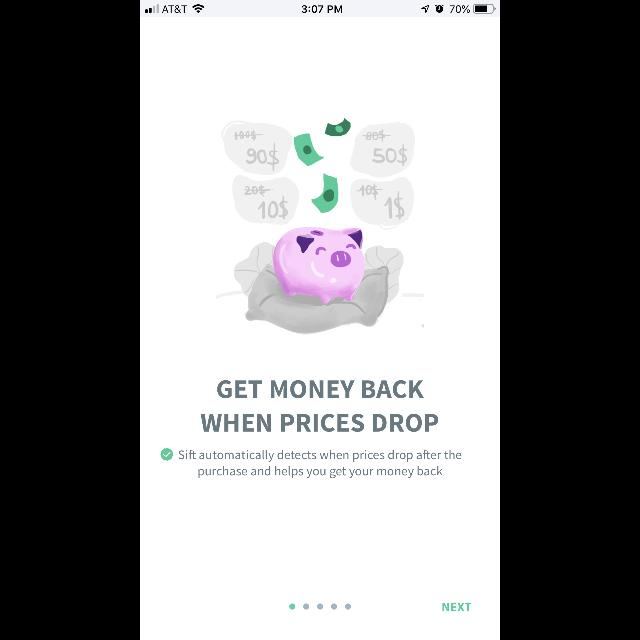icon: (160, 448, 173, 460)
image: (217, 118, 416, 336)
pageindicator: (289, 604, 351, 610)
text: (200, 380, 438, 432), (178, 449, 462, 478), (442, 602, 472, 612)
uppertaskbar: (140, 1, 500, 18)
